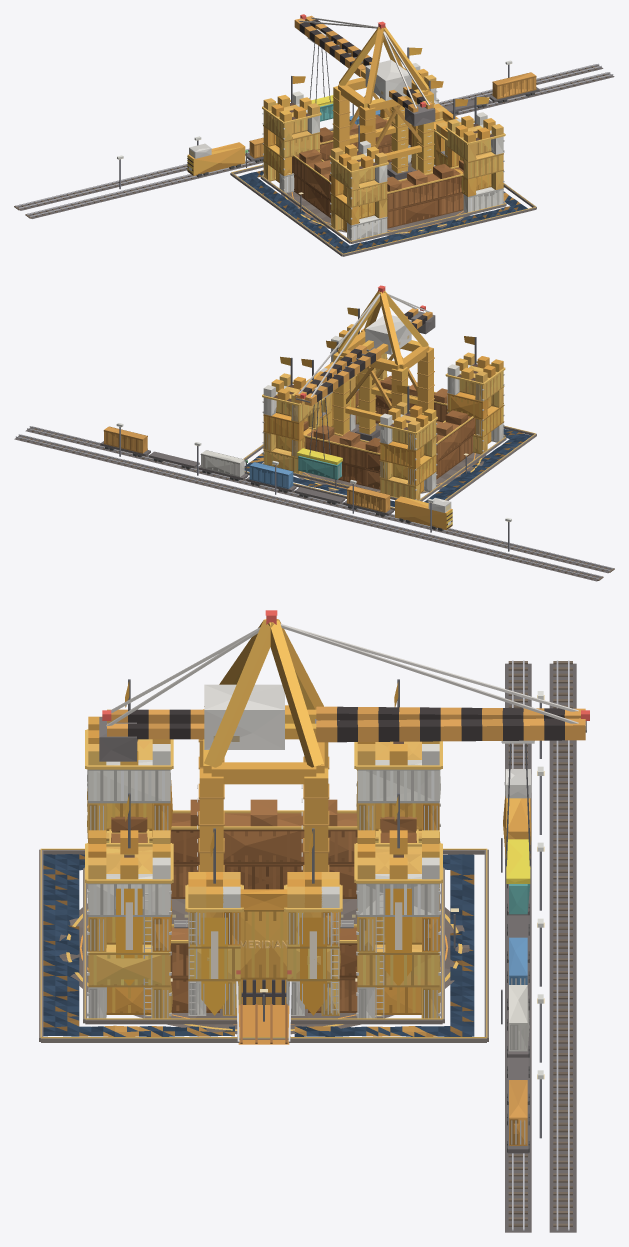
Rendered from meridian_hq.glb.
3 renders of one model, top to bottom at view 1: azimuth 30°, elevation 25°; view 2: azimuth 150°, elevation 25°; view 3: azimuth 270°, elevation 25°, orthographic. The views are drawn at different scales.
Visible parts, largest first — view 1: meridian_hq__lit, id_ground, meridian_hq__solid, meridian_hq__crane_lit, meridian_hq__crane_solid, meridian_hq__train_solid, meridian_hq__crane_p03_solid, meridian_hq__neon; view 2: meridian_hq__lit, id_ground, meridian_hq__solid, meridian_hq__train_solid, meridian_hq__crane_lit, meridian_hq__crane_p03_solid, meridian_hq__crane_solid, meridian_hq__neon; view 3: meridian_hq__lit, id_ground, meridian_hq__solid, meridian_hq__crane_lit, meridian_hq__crane_p03_solid, meridian_hq__crane_solid, meridian_hq__neon, meridian_hq__train_solid.
Boxes of the visible parts, x1,y1,x2,y2 form: meridian_hq__lit: [263, 63, 504, 240]; id_ground: [14, 63, 614, 256]; meridian_hq__solid: [117, 47, 512, 239]; meridian_hq__crane_lit: [333, 26, 433, 173]; meridian_hq__crane_solid: [332, 23, 435, 179]; meridian_hq__train_solid: [187, 72, 539, 176]; meridian_hq__crane_p03_solid: [294, 14, 377, 121]; meridian_hq__neon: [119, 63, 511, 194]; meridian_hq__lit: [263, 324, 504, 500]; id_ground: [14, 423, 614, 581]; meridian_hq__solid: [116, 307, 511, 551]; meridian_hq__train_solid: [100, 426, 452, 531]; meridian_hq__crane_lit: [333, 290, 433, 434]; meridian_hq__crane_p03_solid: [294, 294, 381, 479]; meridian_hq__crane_solid: [332, 287, 435, 440]; meridian_hq__neon: [118, 332, 509, 521]; meridian_hq__lit: [87, 716, 440, 1018]; id_ground: [39, 660, 576, 1232]; meridian_hq__solid: [87, 679, 543, 1138]; meridian_hq__crane_lit: [199, 619, 328, 871]; meridian_hq__crane_p03_solid: [280, 623, 589, 914]; meridian_hq__crane_solid: [99, 615, 329, 871]; meridian_hq__neon: [85, 695, 544, 1079]; meridian_hq__train_solid: [503, 769, 531, 1153].
Size of what is drawn, in the model's own units: 180 by 49.51 by 73.7.
